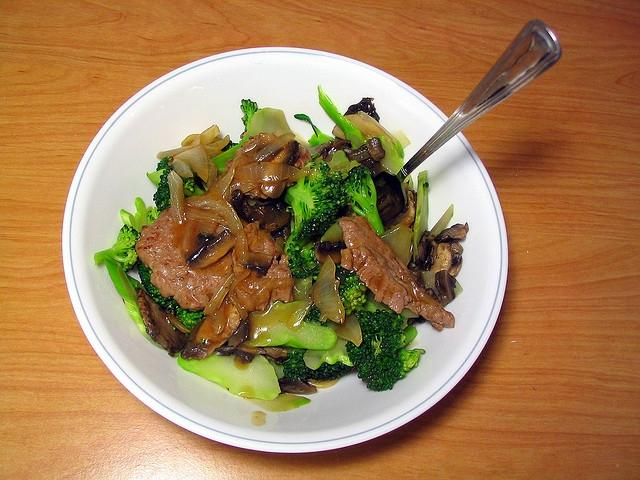broccoli: (344, 308, 426, 391), (284, 162, 348, 242), (178, 352, 282, 398), (317, 84, 366, 150), (342, 166, 385, 237), (153, 166, 205, 212), (277, 352, 357, 381), (93, 224, 141, 272), (138, 263, 178, 309), (286, 233, 323, 278), (336, 264, 367, 314), (313, 150, 362, 180), (414, 170, 429, 262), (176, 308, 206, 337), (240, 99, 261, 133)
mushroom: (138, 288, 186, 354), (228, 189, 292, 234), (259, 140, 299, 199), (186, 229, 234, 270), (428, 242, 464, 278), (314, 240, 348, 264), (434, 223, 469, 244), (434, 270, 456, 302), (278, 377, 316, 394), (343, 143, 371, 162), (418, 230, 430, 263), (244, 265, 268, 276)
